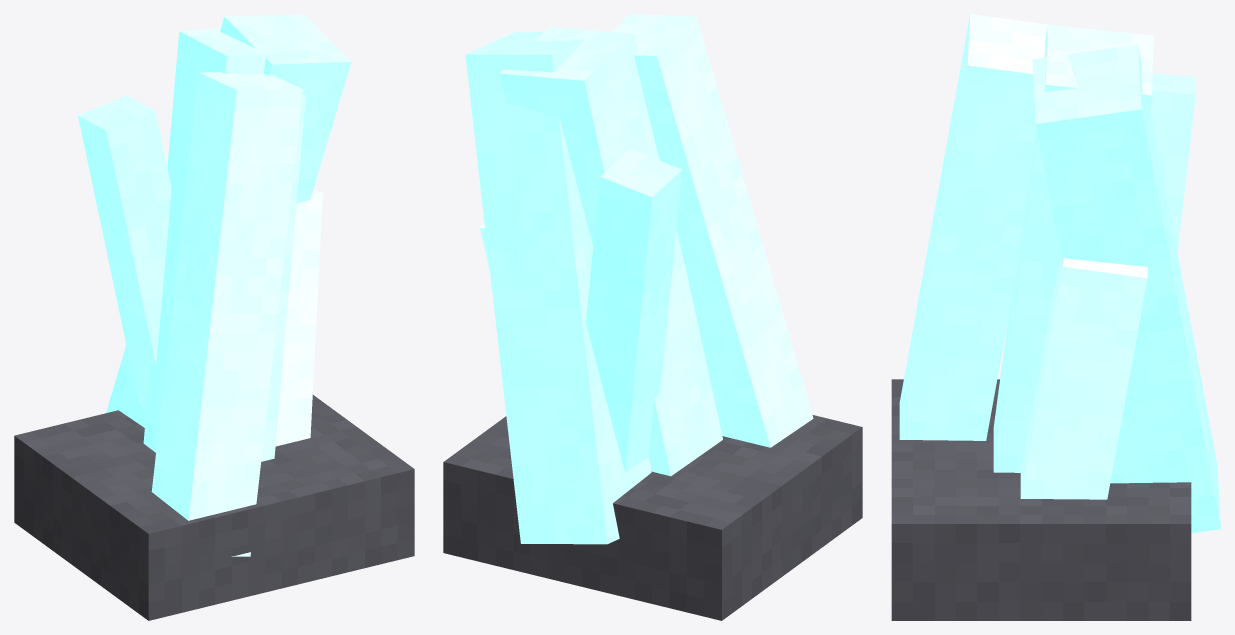
File: crystal_blue.glb
The picture shows the model from 3 angles, left to right: view 1: azimuth 30°, elevation 25°; view 2: azimuth 150°, elevation 25°; view 3: azimuth 270°, elevation 25°; orthographic projection. The views are drawn at different scales.
Visible parts, largest first — view 1: Rock; view 2: Rock; view 3: Rock.
Boxes of the visible parts, x1=… form: Rock: x1=14, y1=14, x2=414, y2=620; Rock: x1=443, y1=14, x2=862, y2=620; Rock: x1=891, y1=14, x2=1220, y2=620.
Bounding box in the file's own units: 0.8045 × 1.37 × 0.7709.
Materials: 6 (6 with a texture image).
